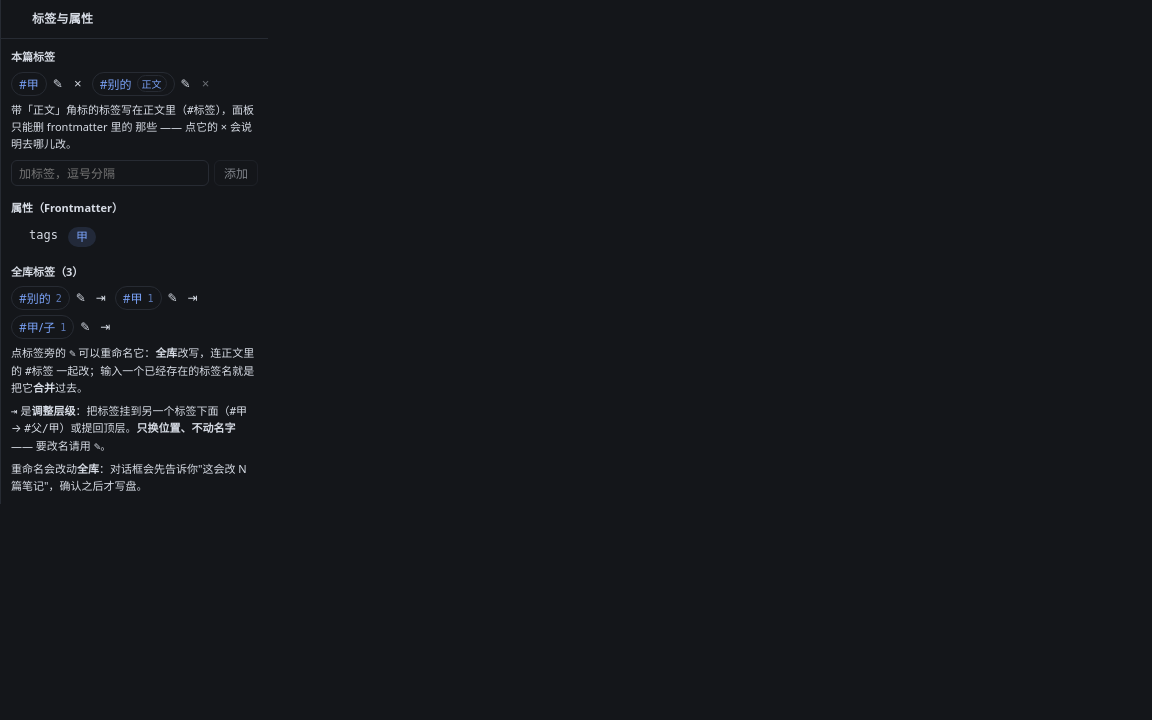
Test: 入口与初值 › 输入框初值 = 它现在挂在哪儿（`甲/子` → `甲`），并给出父标签候选
Expected: the button "#甲" is shown, [11,72,47,96]
Expected: the 1st button "⇥" is shown, [92,289,110,307]
Click the 3rd button "⇥".
click(105, 327)  # box [96,318,114,336]
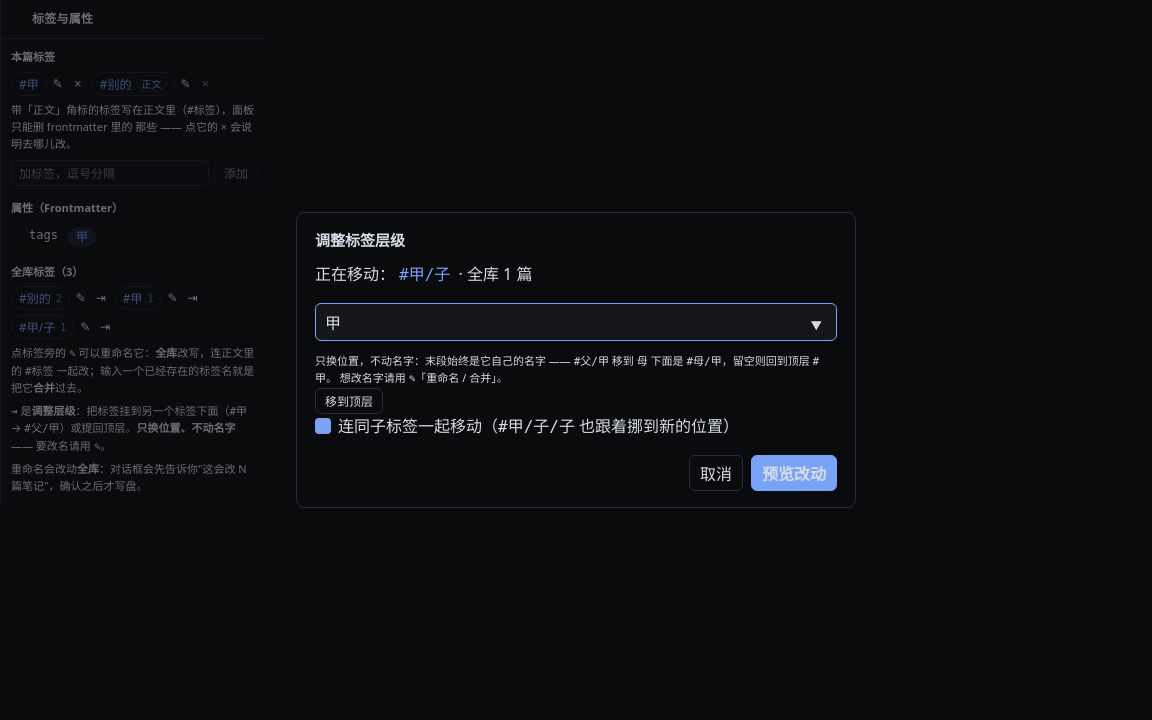
Now the element that starts with "调整标签层级" is shown
Now the field named "父标签" holds "甲", box [315,303,837,341]
